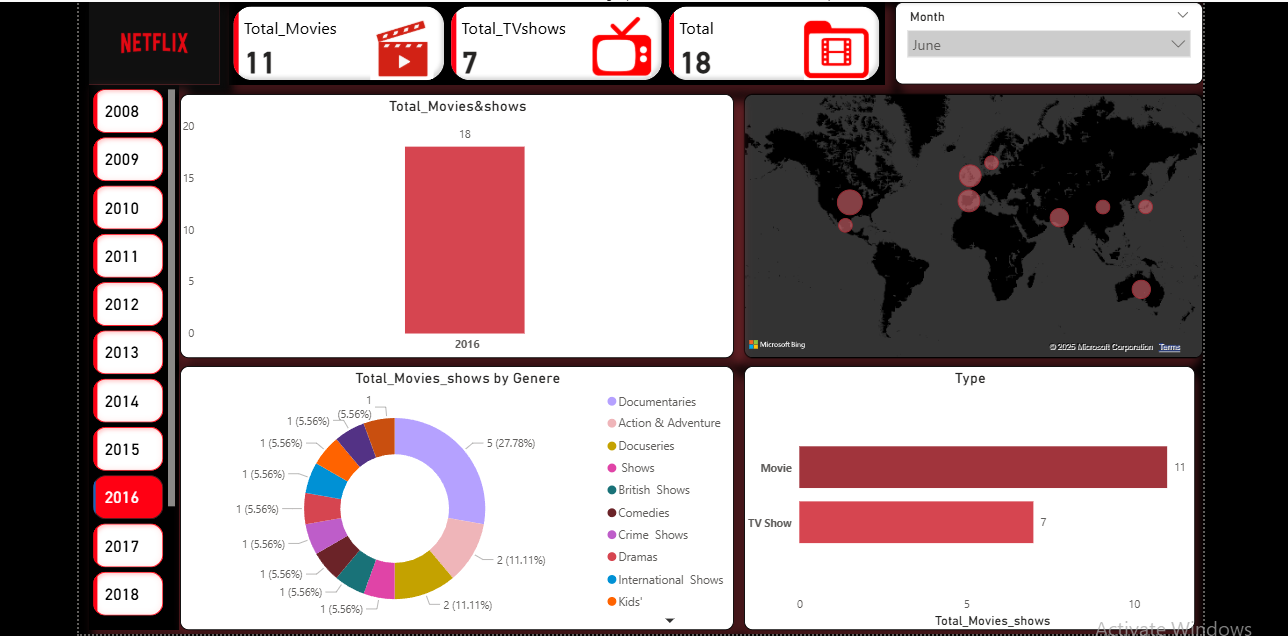

The dashboard page shown, as its layout file describes it:
{"tool":"powerbi","page":{"name":"Page 1","canvas":[1280,720],"ordinal":0},"visuals":[{"type":"shape","box":[0,0,170.8,94.3],"z":0},{"type":"image","box":[11.5,0,149.2,94.3],"z":1000},{"type":"shape","box":[0,114.7,123.7,605.6],"z":2000},{"type":"advancedSlicerVisual","fields":{"Values":["netflix1.date_added.Variation.Date Hierarchy.Year"]},"box":[11.5,94.3,103.3,620.9],"z":3000},{"type":"cardVisual","fields":{"Data":["netflix1.Total_Movies","netflix1.Total_TVshows","netflix1.Total_Movies_shows"]},"box":[170.8,0,747.1,94.3],"z":4000},{"type":"slicer","fields":{"Values":["netflix1.date_added.Variation.Date Hierarchy.Month"]},"box":[929.4,0,350.6,94.3],"z":5000},{"type":"map","fields":{"Category":["netflix1.country"],"Size":["netflix1.Total_Movies_shows"]},"box":[757.3,104.5,522.7,300.9],"z":6000},{"type":"columnChart","title":"Total_Movies&shows","fields":{"Category":["netflix1.date_added.Variation.Date Hierarchy.Year"],"Y":["netflix1.Total_Movies_shows"]},"box":[114.7,104.5,631.1,300.9],"z":7000},{"type":"donutChart","fields":{"Category":["netflix1.Genere"],"Y":["netflix1.Total_Movies_shows"]},"box":[114.7,414.3,631.1,300.9],"z":8000},{"type":"barChart","title":"Type","fields":{"Category":["netflix1.type"],"Y":["netflix1.Total_Movies_shows"]},"box":[757.3,414.3,513.8,300.9],"z":9000}]}

Visuals, with their boxes in screenshot pixels (x1, y1, x2, y2):
shape: [x1=74, y1=0, x2=223, y2=82]
image: [x1=84, y1=0, x2=214, y2=82]
shape: [x1=74, y1=100, x2=182, y2=629]
advancedSlicerVisual - netflix1.date_added.Variation.Date Hierarchy.Year: [x1=84, y1=82, x2=174, y2=624]
cardVisual - netflix1.Total_Movies x netflix1.Total_TVshows: [x1=223, y1=0, x2=875, y2=82]
slicer - netflix1.date_added.Variation.Date Hierarchy.Month: [x1=885, y1=0, x2=1191, y2=82]
map - netflix1.country x netflix1.Total_Movies_shows: [x1=735, y1=91, x2=1191, y2=354]
"Total_Movies&shows" columnChart: [x1=174, y1=91, x2=725, y2=354]
donutChart - netflix1.Genere x netflix1.Total_Movies_shows: [x1=174, y1=362, x2=725, y2=624]
"Type" barChart: [x1=735, y1=362, x2=1183, y2=624]
